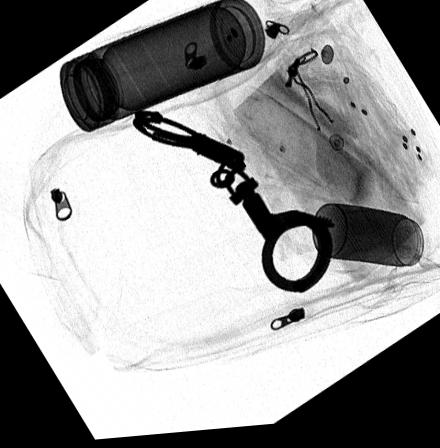HandCuffs: (131, 112, 334, 298)
